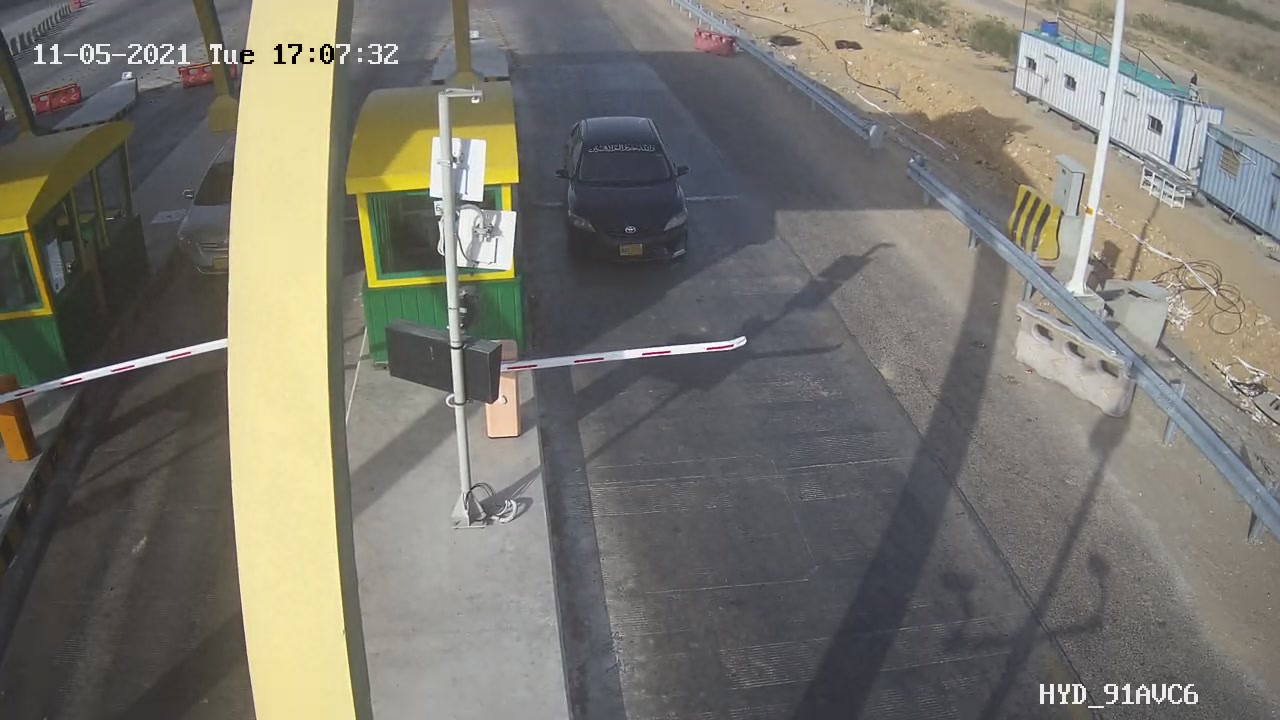F1: (540, 99, 717, 292)
